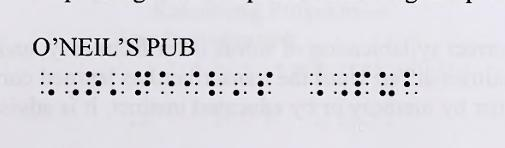O: (85, 71, 102, 96)
P: (354, 71, 370, 96)
b: (404, 72, 418, 95)
capital: (65, 72, 79, 96), (334, 73, 348, 96), (41, 72, 54, 96), (310, 73, 323, 96)
e: (160, 71, 175, 94)
i: (184, 71, 200, 94)
l: (209, 71, 223, 96)
n: (135, 71, 151, 96)
s: (257, 71, 273, 96)
u: (380, 71, 395, 96)
